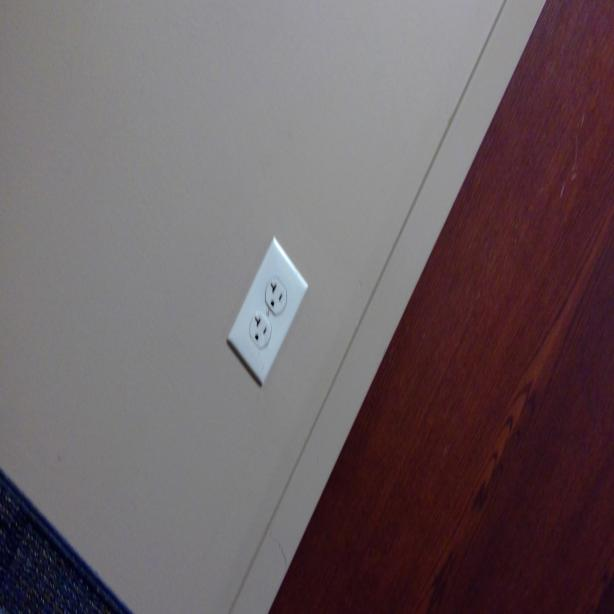typeb: (264, 276, 288, 313), (249, 314, 271, 348)
